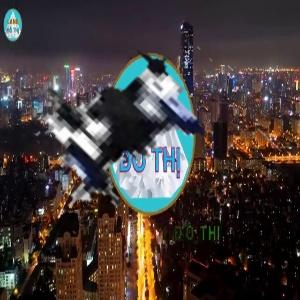drone: (29, 24, 287, 282)
